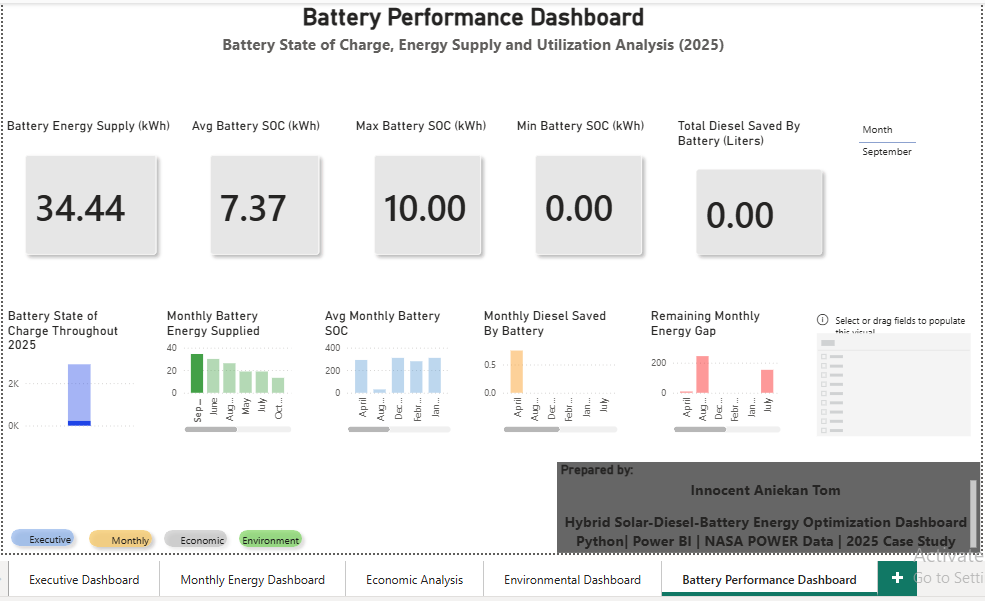

Layout of this report page (visuals, bound fields, positions):
{"tool":"powerbi","page":{"name":"Battery Performance Dashboard","canvas":[1280,720],"ordinal":4},"visuals":[{"type":"slicer","box":[1057.3,399.8,216.7,168],"z":0},{"type":"textbox","title":"Battery Performance Dashboard","box":[252,0,729,102.5],"z":1000},{"type":"cardVisual","title":"Battery Energy Supply (kWh)","fields":{"Data":["Sum(Hybrid_Energy_Results.Battery_Discharge)"]},"box":[0,151.2,230.1,208.3],"z":2000},{"type":"cardVisual","title":"Total Diesel Saved By Battery (Liters)","fields":{"Data":["Sum(Hybrid_Energy_Results.Diesel_Saved)"]},"box":[877.9,151.2,223.4,208.3],"z":3000},{"type":"cardVisual","title":"Avg Battery SOC (kWh)","fields":{"Data":["Avg(Hybrid_Energy_Results.Battery_SOC)"]},"box":[242.6,151.2,201.6,208.3],"z":4000},{"type":"cardVisual","title":"Max Battery SOC (kWh)","fields":{"Data":["Max(Hybrid_Energy_Results.Battery_SOC)"]},"box":[456.6,151.2,198.2,208.3],"z":5000},{"type":"cardVisual","title":"Min Battery SOC (kWh)","fields":{"Data":["Min(Hybrid_Energy_Results.Battery_SOC)"]},"box":[667.2,151.2,198.2,208.3],"z":6000},{"type":"clusteredColumnChart","title":"Battery State of Charge Throughout 2025","fields":{"Category":["Hybrid_Energy_Results.Date.Variation.Date Hierarchy.Year","Hybrid_Energy_Results.Date.Variation.Date Hierarchy.Quarter","Hybrid_Energy_Results.Date.Variation.Date Hierarchy.Month","Hybrid_Energy_Results.Date.Variation.Date Hierarchy.Day"],"Y":["Sum(Hybrid_Energy_Results.Battery_SOC)"]},"box":[0.7,399.8,174.7,168],"z":7000},{"type":"clusteredColumnChart","title":"Monthly Battery Energy Supplied","fields":{"Category":["Hybrid_Energy_Results.Month"],"Y":["Sum(Hybrid_Energy_Results.Battery_Discharge)"]},"box":[209.3,399.8,173,168],"z":8000},{"type":"tableEx","fields":{"Values":["Hybrid_Energy_Results.Month"]},"box":[1113.7,151.2,159.6,208.3],"z":9000},{"type":"clusteredColumnChart","title":"Avg Monthly Battery SOC","fields":{"Y":["Sum(Hybrid_Energy_Results.Battery_SOC)"],"Category":["Hybrid_Energy_Results.Month"]},"box":[416.3,399.8,174.7,168],"z":10000},{"type":"clusteredColumnChart","title":"Monthly Diesel Saved By Battery","fields":{"Category":["Hybrid_Energy_Results.Month"],"Y":["Sum(Hybrid_Energy_Results.Diesel_Saved)"]},"box":[624.9,399.8,184.8,168],"z":11000},{"type":"clusteredColumnChart","title":"Remaining Monthly Energy Gap","fields":{"Category":["Hybrid_Energy_Results.Month"],"Y":["Sum(Hybrid_Energy_Results.Energy_Gap)"]},"box":[843.6,399.8,179.7,168],"z":12000},{"type":"actionButton","box":[103,680.1,100.8,40.3],"z":13000},{"type":"actionButton","box":[201.6,680.1,100.8,40.3],"z":14000},{"type":"actionButton","box":[300.1,680.1,100.8,40.3],"z":15000},{"type":"actionButton","box":[1.7,679.7,100.8,40.3],"z":16000},{"type":"textbox","title":"Prepared by: ","box":[725.7,601.4,554.3,119.3],"z":17000}]}

Visuals, with their boxes on the page's 1280x720 design canvas (x1, y1, x2, y2). These are canvas units, not pixel positions in the 985x601 screenshot, which may show the page scaled, cropped or inside an application window:
slicer: [1057, 400, 1274, 568]
"Battery Performance Dashboard" textbox: [252, 0, 981, 102]
"Battery Energy Supply (kWh)" cardVisual: [0, 151, 230, 360]
"Total Diesel Saved By Battery (Liters)" cardVisual: [878, 151, 1101, 360]
"Avg Battery SOC (kWh)" cardVisual: [243, 151, 444, 360]
"Max Battery SOC (kWh)" cardVisual: [457, 151, 655, 360]
"Min Battery SOC (kWh)" cardVisual: [667, 151, 865, 360]
"Battery State of Charge Throughout 2025" clusteredColumnChart: [1, 400, 175, 568]
"Monthly Battery Energy Supplied" clusteredColumnChart: [209, 400, 382, 568]
tableEx - Hybrid_Energy_Results.Month: [1114, 151, 1273, 360]
"Avg Monthly Battery SOC" clusteredColumnChart: [416, 400, 591, 568]
"Monthly Diesel Saved By Battery" clusteredColumnChart: [625, 400, 810, 568]
"Remaining Monthly Energy Gap" clusteredColumnChart: [844, 400, 1023, 568]
actionButton: [103, 680, 204, 720]
actionButton: [202, 680, 302, 720]
actionButton: [300, 680, 401, 720]
actionButton: [2, 680, 102, 720]
"Prepared by: " textbox: [726, 601, 1280, 721]
